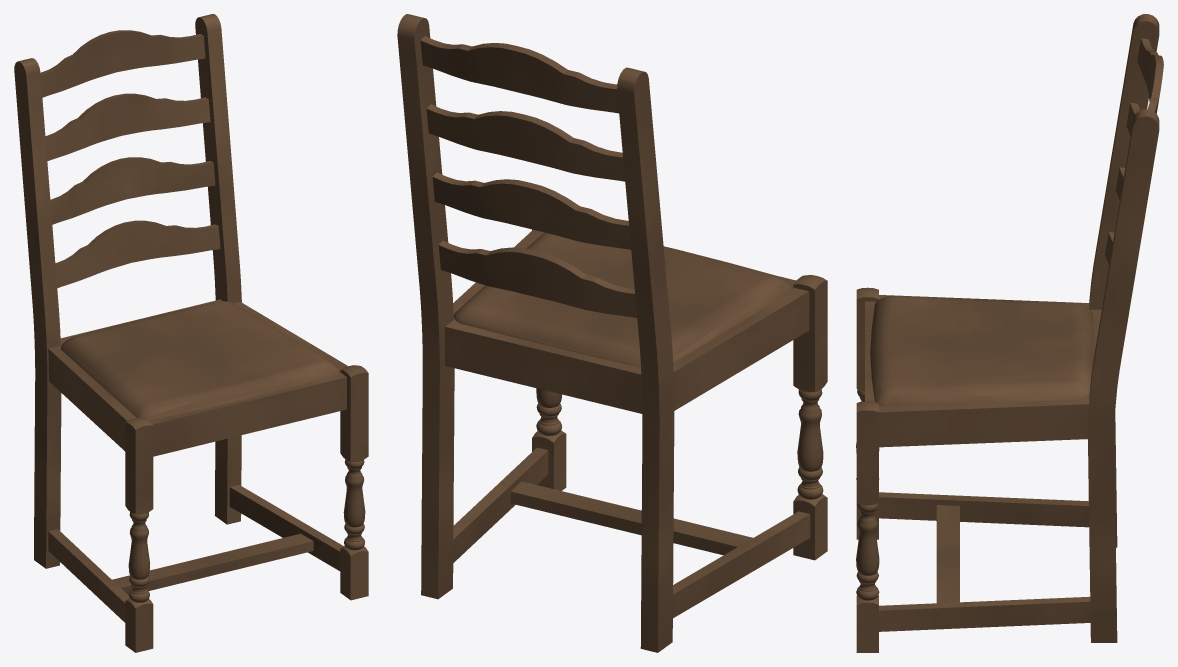
Rendered from chair_ladder.glb.
3 renders of one model, left to right at view 1: azimuth 30°, elevation 25°; view 2: azimuth 150°, elevation 25°; view 3: azimuth 270°, elevation 25°, orthographic. The views are drawn at different scales.
Parts seen in each view (by area): view 1: chair_ladder; view 2: chair_ladder; view 3: chair_ladder.
Boxes of the visible parts, left/top/right/bottom form: chair_ladder: left=14, top=14, right=368, bottom=652; chair_ladder: left=397, top=14, right=827, bottom=652; chair_ladder: left=856, top=14, right=1163, bottom=652.
Bounding box in the file's own units: 0.5003 × 0.9999 × 0.5285.
Materials: 1 (1 with a texture image).
